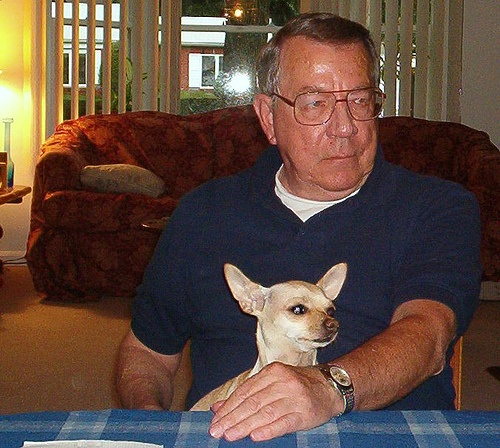head: (257, 13, 381, 196)
person: (118, 6, 483, 448)
